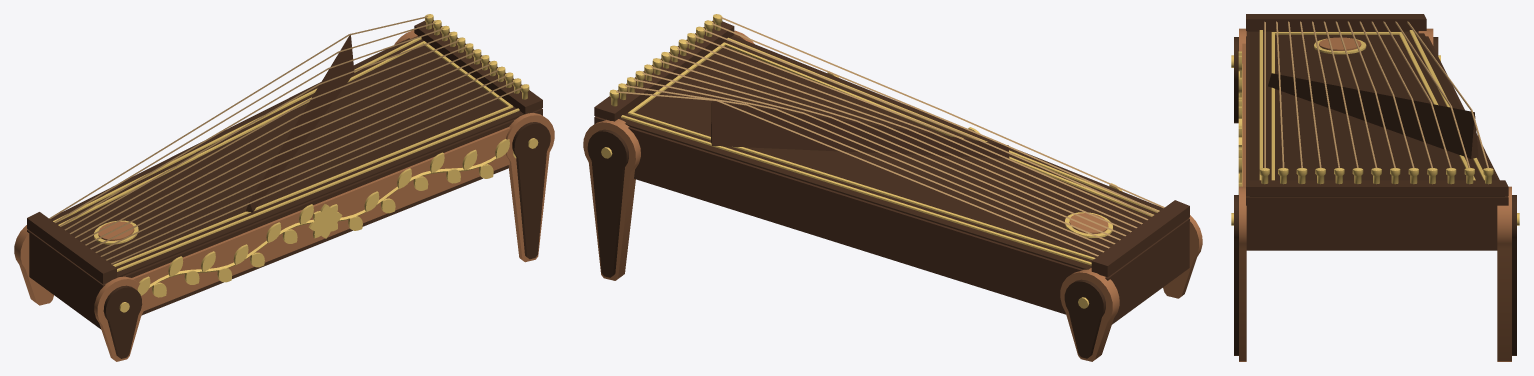
The model's file is SiterSet.fbx.
3 renders of one model, left to right at view 1: azimuth 30°, elevation 25°; view 2: azimuth 150°, elevation 25°; view 3: azimuth 270°, elevation 25°, orthographic. The views are drawn at different scales.
Visible parts, largest first — view 1: SiterSet_Mesh; view 2: SiterSet_Mesh; view 3: SiterSet_Mesh.
Part boxes in pixels (bbox=[...]): SiterSet_Mesh: bbox=[14, 14, 554, 361]; SiterSet_Mesh: bbox=[583, 14, 1202, 361]; SiterSet_Mesh: bbox=[1231, 14, 1519, 361].
Bounding box in the file's own units: 0.7276 × 0.2647 × 0.3404.
